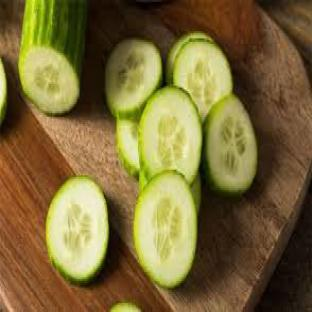Cucumber: (134, 172, 197, 288), (46, 177, 109, 284), (140, 86, 202, 184), (203, 95, 256, 195), (173, 39, 232, 122), (106, 39, 162, 118), (166, 32, 212, 83), (117, 119, 140, 176), (0, 59, 7, 125), (190, 174, 201, 213), (110, 303, 141, 311), (140, 170, 148, 193)
